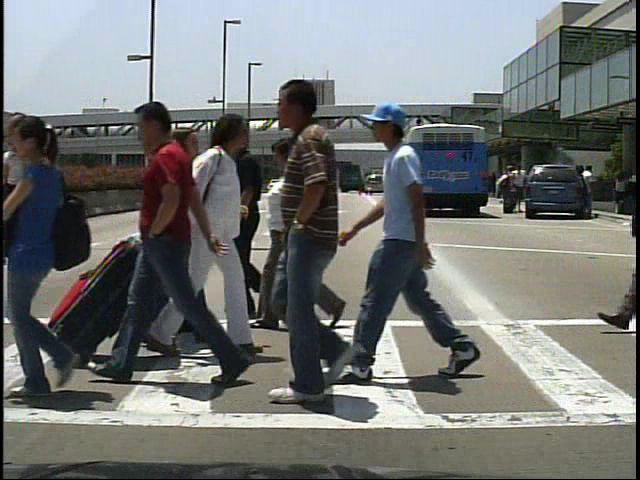person: (254, 84, 393, 425), (142, 111, 263, 365), (123, 91, 225, 388), (372, 103, 465, 383), (123, 123, 212, 344), (255, 135, 334, 332), (215, 125, 288, 323), (150, 119, 207, 362), (144, 190, 186, 323), (582, 164, 602, 218), (498, 166, 516, 219), (512, 165, 528, 215)
